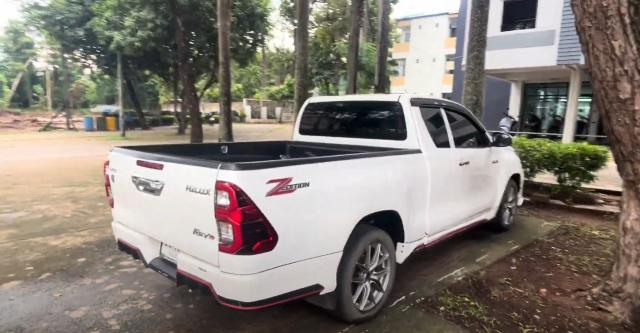pickup-truck: (101, 92, 523, 318)
